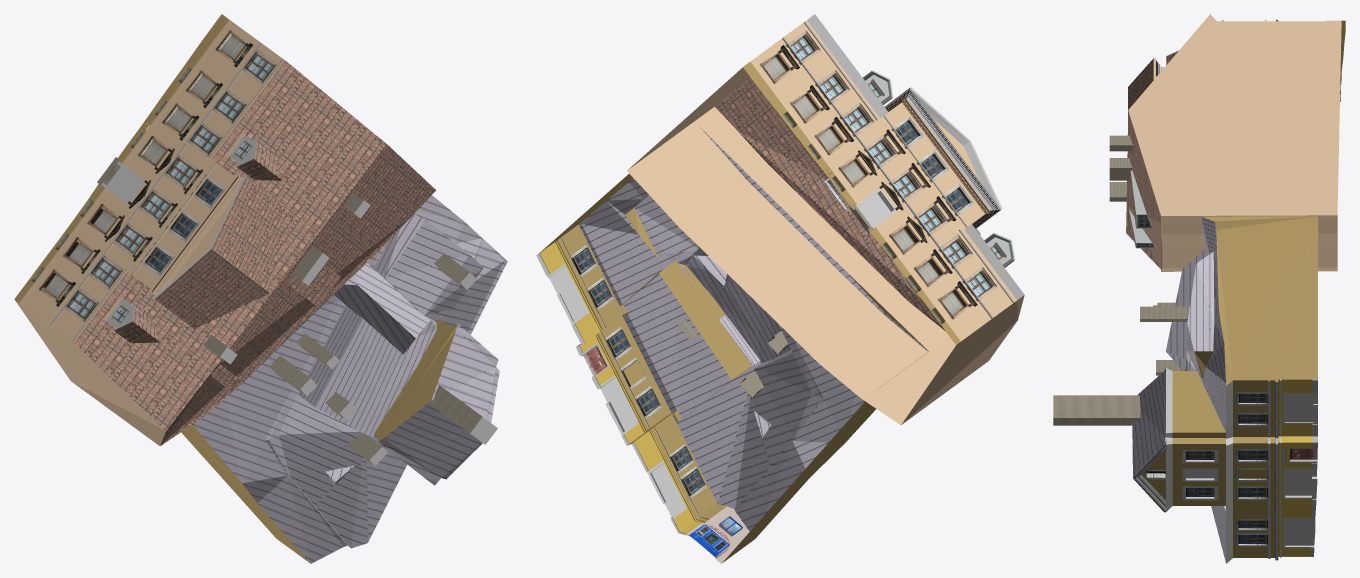
Rendered from Parnu_mnt_4.obj.
3 views of the same model, side by side, from view 1: azimuth 30°, elevation 25°; view 2: azimuth 150°, elevation 25°; view 3: azimuth 270°, elevation 25° (orthographic).
Parts seen in each view (by area): view 1: Parnu_mnt_4; view 2: Parnu_mnt_4; view 3: Parnu_mnt_4.
Boxes of the visible parts, x1,y1,x2,y2 form: Parnu_mnt_4: (14,14,507,563); Parnu_mnt_4: (536,14,1024,563); Parnu_mnt_4: (1053,14,1345,563).
Size of the model in its own units: 34.71 by 39.57 by 20.08.
